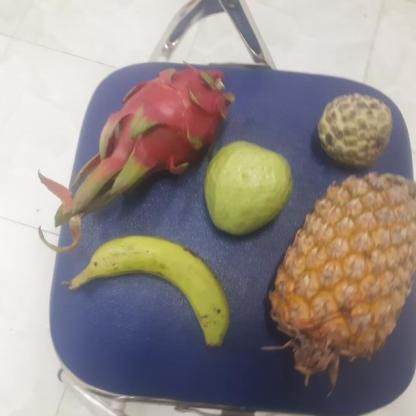annona: (314, 94, 392, 166)
banana: (64, 233, 230, 340)
guava: (200, 141, 293, 234)
pitaya: (105, 67, 230, 185)
